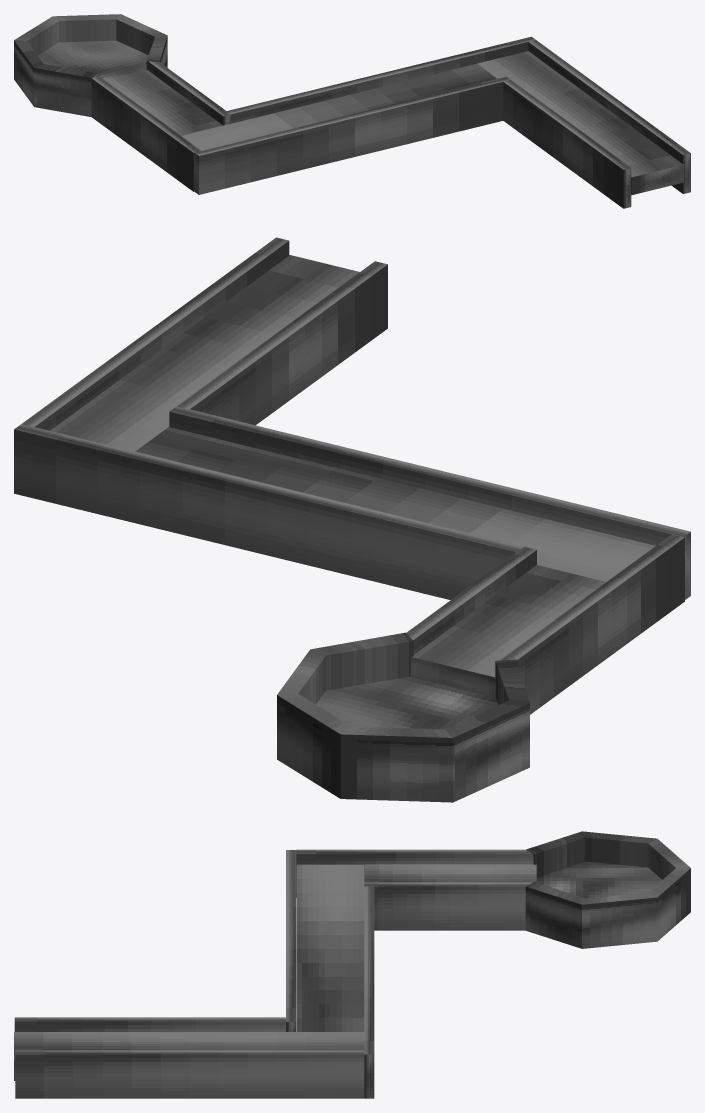
File: simple_scene.gltf
The picture shows the model from 3 angles, top to bottom: view 1: azimuth 30°, elevation 25°; view 2: azimuth 150°, elevation 25°; view 3: azimuth 270°, elevation 25°; orthographic projection. The views are drawn at different scales.
Visible parts, largest first — view 1: Cube.001, Cylinder.001, Cube.008, Cube.003, Cube.007, Cube.002, Cube.005, Cube, Cube.006, Cube.004; view 2: Cube.005, Cylinder.001, Cube.003, Cube.008, Cube.007, Cube.002, Cube.001, Cube, Cube.006, Cube.004; view 3: Cube.006, Cylinder.001, Cube.003, Cube.004, Cube.008, Cube.007, Cube.002, Cube, Cube.005, Cube.001.
Part boxes in pixels (box(x1,y1,x2,y2)): Cube.001: box(194, 76, 510, 194); Cylinder.001: box(14, 14, 167, 116); Cube.008: box(477, 51, 683, 194); Cube.003: box(181, 64, 496, 150); Cube.007: box(503, 79, 631, 208); Cube.002: box(91, 74, 200, 191); Cube.005: box(225, 36, 535, 123); Cube: box(105, 69, 222, 135); Cube.006: box(528, 40, 690, 193); Cube.004: box(148, 61, 230, 125); Cube.005: box(14, 424, 523, 599); Cylinder.001: box(277, 632, 529, 802); Cube.003: box(135, 427, 655, 581); Cube.008: box(50, 255, 359, 451); Cube.007: box(176, 261, 387, 425); Cube.002: box(499, 534, 684, 714); Cube.001: box(169, 406, 690, 599); Cube: box(411, 565, 605, 696); Cube.006: box(22, 237, 289, 430); Cube.004: box(406, 546, 536, 654); Cube.006: box(15, 1050, 364, 1098); Cylinder.001: box(525, 831, 690, 948); Cube.003: box(296, 864, 364, 1031); Cube.004: box(364, 882, 532, 930); Cube.008: box(14, 1032, 364, 1080); Cube.007: box(14, 1017, 286, 1031); Cube.002: box(296, 849, 533, 897); Cube: box(364, 864, 536, 882); Cube.005: box(364, 886, 374, 1098); Cube.001: box(286, 850, 296, 1031).
Size of the model in its own units: 35.52 by 3.28 by 45.56.
1 material, 1 textured.
